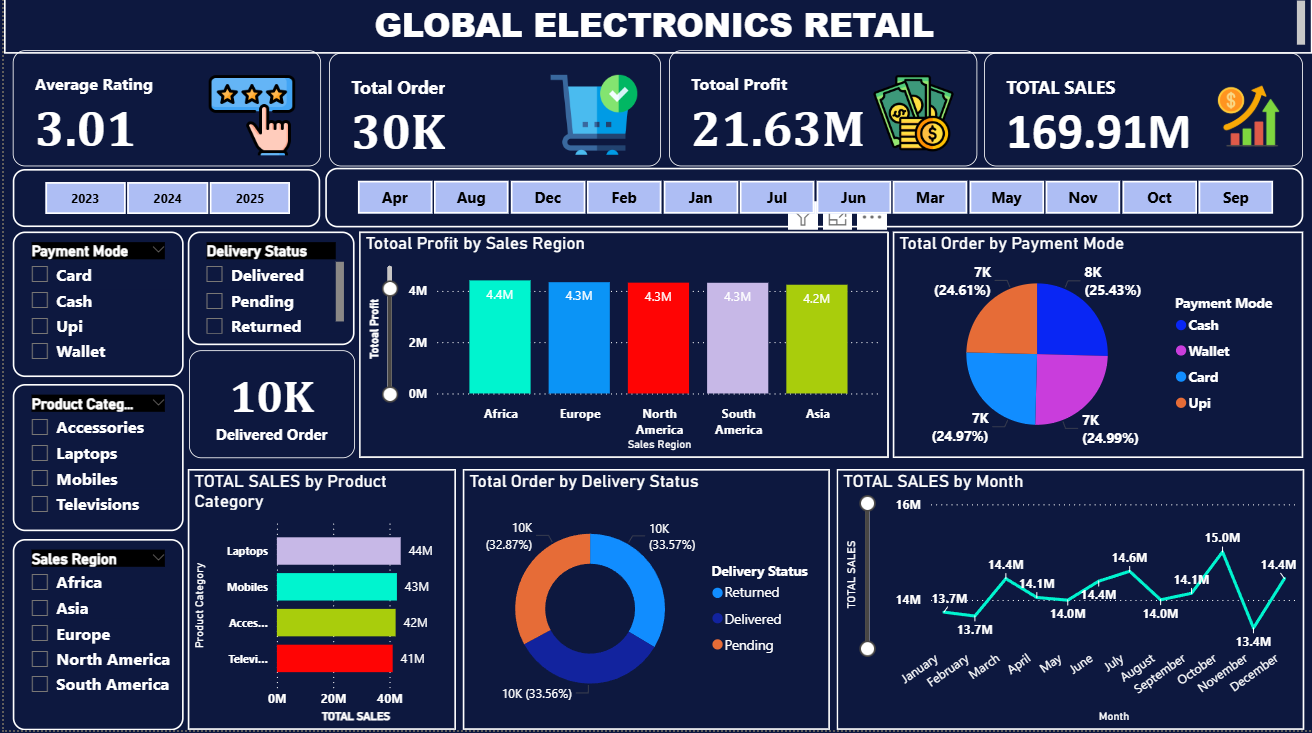

This screenshot's page, from the dashboard's own definition file:
{"tool":"powerbi","page":{"name":"Page 1","canvas":[1280,720],"ordinal":0},"visuals":[{"type":"textbox","box":[0,0,1280,58],"z":0},{"type":"cardVisual","fields":{"Data":["Row_Sheet.TOTAL SALES"]},"box":[959,58,311.9,110.9],"z":1000},{"type":"cardVisual","fields":{"Data":["Row_Sheet.Average Rating"]},"box":[9,55.4,301.6,113.4],"z":2000},{"type":"cardVisual","fields":{"Data":["Row_Sheet.Total Order"]},"box":[318.4,58,324.8,110.9],"z":3000},{"type":"cardVisual","fields":{"Data":["Row_Sheet.Totoal Profit"]},"box":[651,55.4,301.6,113.4],"z":4000},{"type":"barChart","fields":{"Y":["Row_Sheet.TOTAL SALES"],"Category":["Row_Sheet.Product Category"]},"box":[179.7,464.8,262.7,255.3],"z":5000},{"type":"lineChart","fields":{"Category":["Row_Sheet.Order Date.Variation.Date Hierarchy.Month"],"Y":["Row_Sheet.TOTAL SALES"]},"box":[814.3,464.8,457.3,255.3],"z":6000},{"type":"donutChart","fields":{"Category":["Row_Sheet.Delivery Status"],"Y":["Row_Sheet.Total Order"]},"box":[448.6,464.7,359.4,255.3],"z":7000},{"type":"columnChart","fields":{"Category":["Row_Sheet.Sales Region"],"Y":["Row_Sheet.Totoal Profit"]},"box":[347,231.8,518,221.8],"z":8000},{"type":"pieChart","fields":{"Category":["Row_Sheet.Payment Mode"],"Y":["Row_Sheet.Total Order"]},"box":[870,231.8,401.6,221.8],"z":9000},{"type":"slicer","fields":{"Values":["Row_Sheet.Year"]},"box":[8.7,171,301.2,57],"z":10000},{"type":"slicer","fields":{"Values":["Row_Sheet.Month"]},"box":[314.8,169.8,956.8,58.2],"z":11000},{"type":"slicer","fields":{"Values":["Row_Sheet.Payment Mode"]},"box":[8.7,231.8,167.3,142.5],"z":12000},{"type":"slicer","fields":{"Values":["Row_Sheet.Sales Region"]},"box":[8.7,532.9,167.3,187.1],"z":13000},{"type":"slicer","fields":{"Values":["Row_Sheet.Delivery Status"]},"box":[179.7,231.8,163.6,111.5],"z":14000},{"type":"slicer","fields":{"Values":["Row_Sheet.Product Category"]},"box":[8.7,381.7,167.3,143.8],"z":15000},{"type":"card","fields":{"Values":["Row_Sheet.Delivered Order"]},"box":[180.9,348.3,162.4,105.3],"z":16000}]}

Visuals, with their boxes in screenshot pixels (x1, y1, x2, y2), scaled from the page's 1280x720 canvas onto the 1312x733 screenshot:
textbox: left=0, top=0, right=1311, bottom=59
cardVisual - Row_Sheet.TOTAL SALES: left=983, top=59, right=1303, bottom=172
cardVisual - Row_Sheet.Average Rating: left=9, top=56, right=318, bottom=172
cardVisual - Row_Sheet.Total Order: left=326, top=59, right=659, bottom=172
cardVisual - Row_Sheet.Totoal Profit: left=667, top=56, right=976, bottom=172
barChart - Row_Sheet.TOTAL SALES x Row_Sheet.Product Category: left=184, top=473, right=453, bottom=732
lineChart - Row_Sheet.Order Date.Variation.Date Hierarchy.Month x Row_Sheet.TOTAL SALES: left=835, top=473, right=1303, bottom=732
donutChart - Row_Sheet.Delivery Status x Row_Sheet.Total Order: left=460, top=473, right=828, bottom=732
columnChart - Row_Sheet.Sales Region x Row_Sheet.Totoal Profit: left=356, top=236, right=887, bottom=462
pieChart - Row_Sheet.Payment Mode x Row_Sheet.Total Order: left=892, top=236, right=1303, bottom=462
slicer - Row_Sheet.Year: left=9, top=174, right=318, bottom=232
slicer - Row_Sheet.Month: left=323, top=173, right=1303, bottom=232
slicer - Row_Sheet.Payment Mode: left=9, top=236, right=180, bottom=381
slicer - Row_Sheet.Sales Region: left=9, top=543, right=180, bottom=732
slicer - Row_Sheet.Delivery Status: left=184, top=236, right=352, bottom=349
slicer - Row_Sheet.Product Category: left=9, top=389, right=180, bottom=535
card - Row_Sheet.Delivered Order: left=185, top=355, right=352, bottom=462
